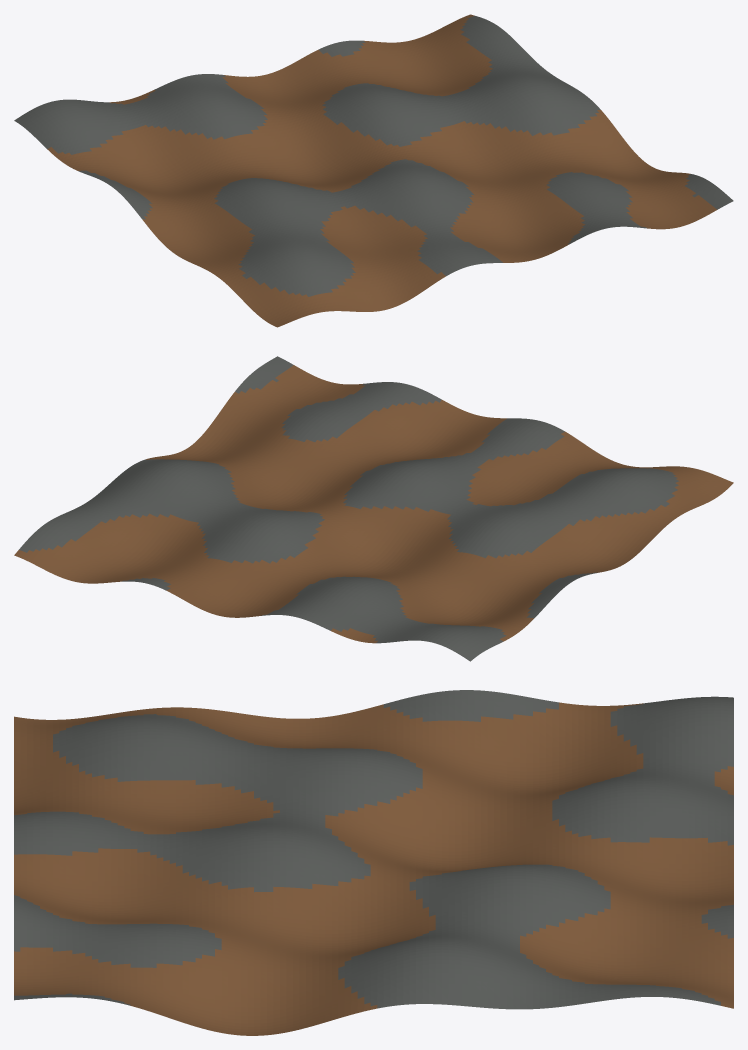
The model's file is granite_ridge_112.obj.
3 views of the same model, one above another, from view 1: azimuth 30°, elevation 25°; view 2: azimuth 150°, elevation 25°; view 3: azimuth 270°, elevation 25° (orthographic). The views are drawn at different scales.
Size of the model in its own units: 222 by 18.78 by 222.
